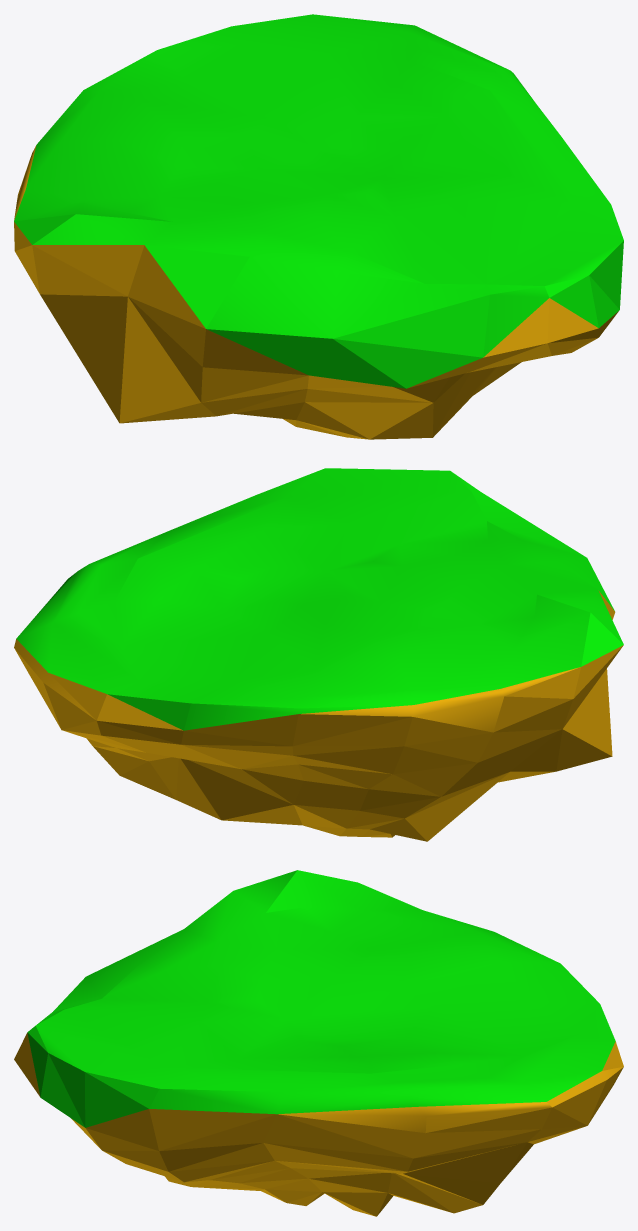
File: LandChunkC.fbx
The picture shows the model from 3 angles, top to bottom: view 1: azimuth 30°, elevation 25°; view 2: azimuth 150°, elevation 25°; view 3: azimuth 270°, elevation 25°; orthographic projection. The views are drawn at different scales.
Parts seen in each view (by area): view 1: LandChunkC; view 2: LandChunkC; view 3: LandChunkC.
Boxes of the visible parts, x1,y1,x2,y2 form: LandChunkC: [14, 14, 623, 439]; LandChunkC: [14, 468, 623, 841]; LandChunkC: [14, 870, 623, 1216].
Size of the model in its own units: 40.77 by 19.04 by 46.83.
